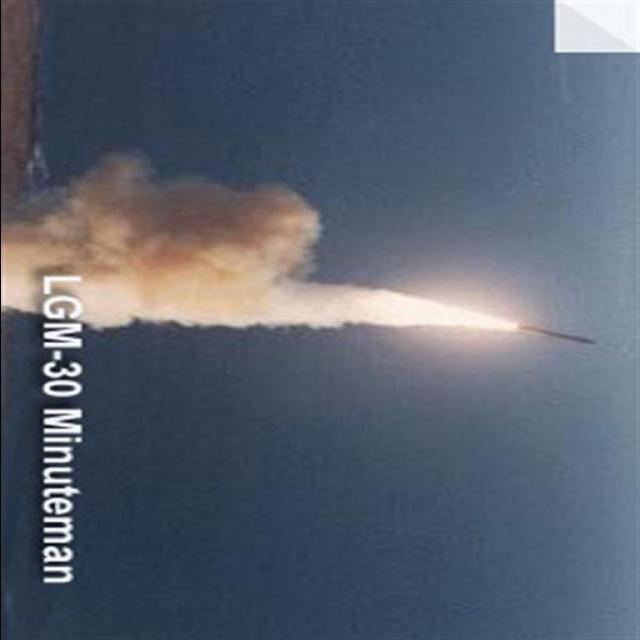missile: (518, 325, 600, 344)
